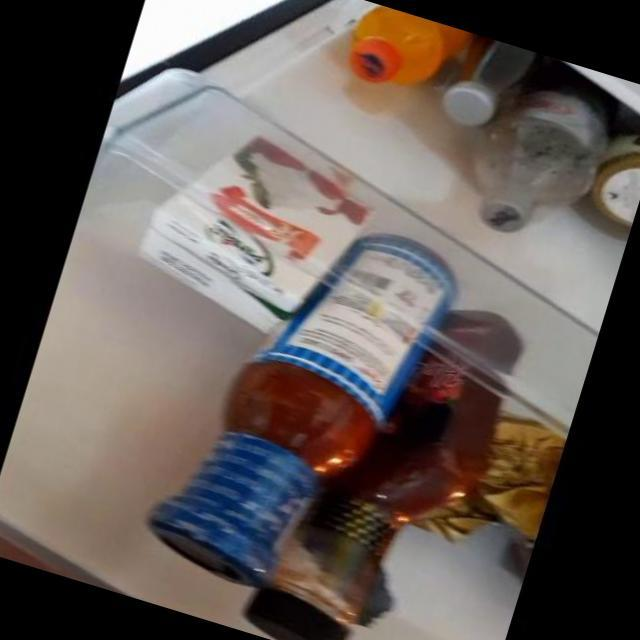cream cheese: (154, 140, 344, 337)
sauce: (168, 208, 454, 602), (305, 294, 524, 640)
